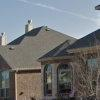Chimney: (22, 16, 37, 37)
